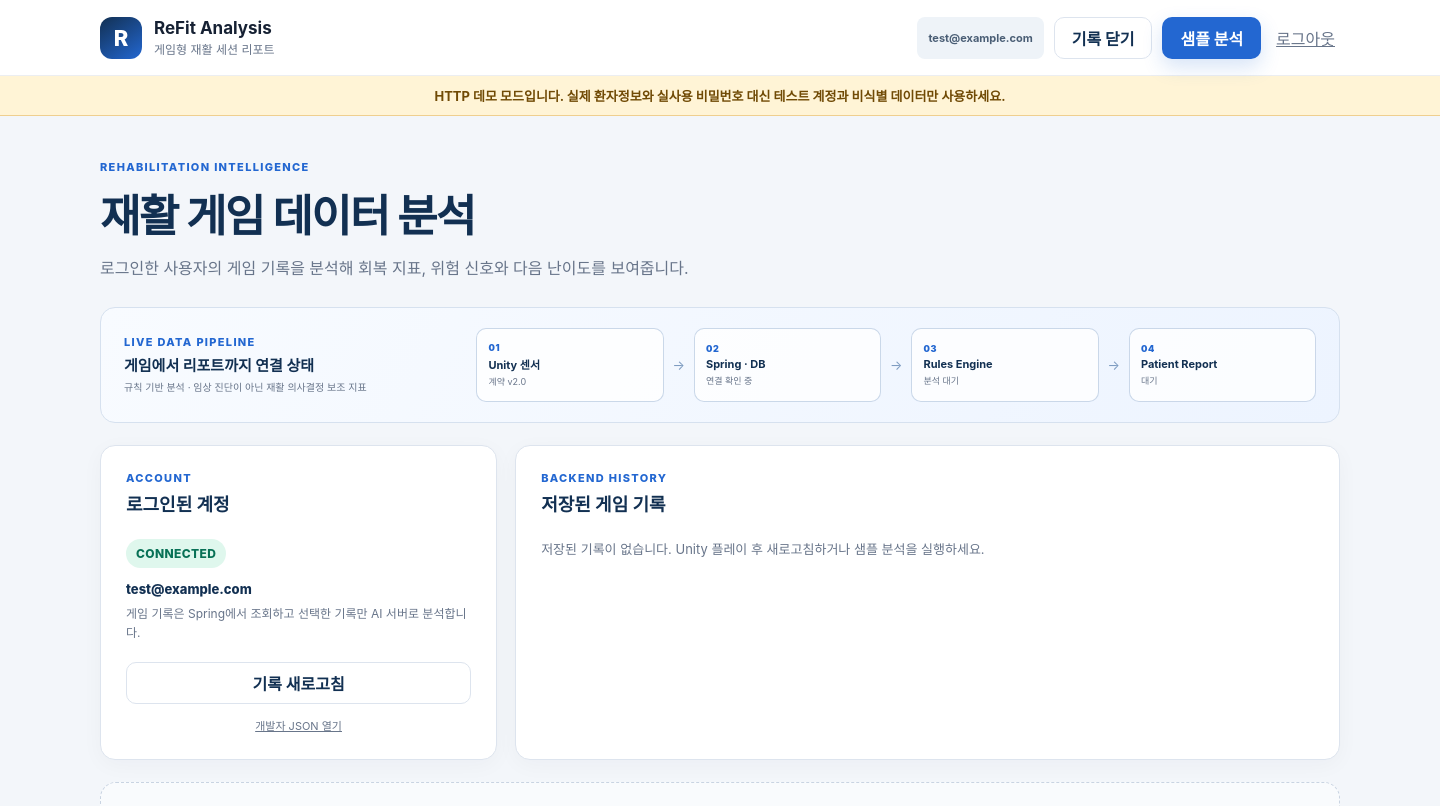
Test case: runs AI analysis only after an authenticated session exists
This screenshot has width=1440, height=806.
Click the button "샘플 분석" at coordinates (1212, 38), box 1162,16 -> 1261,58
(page scrolled)
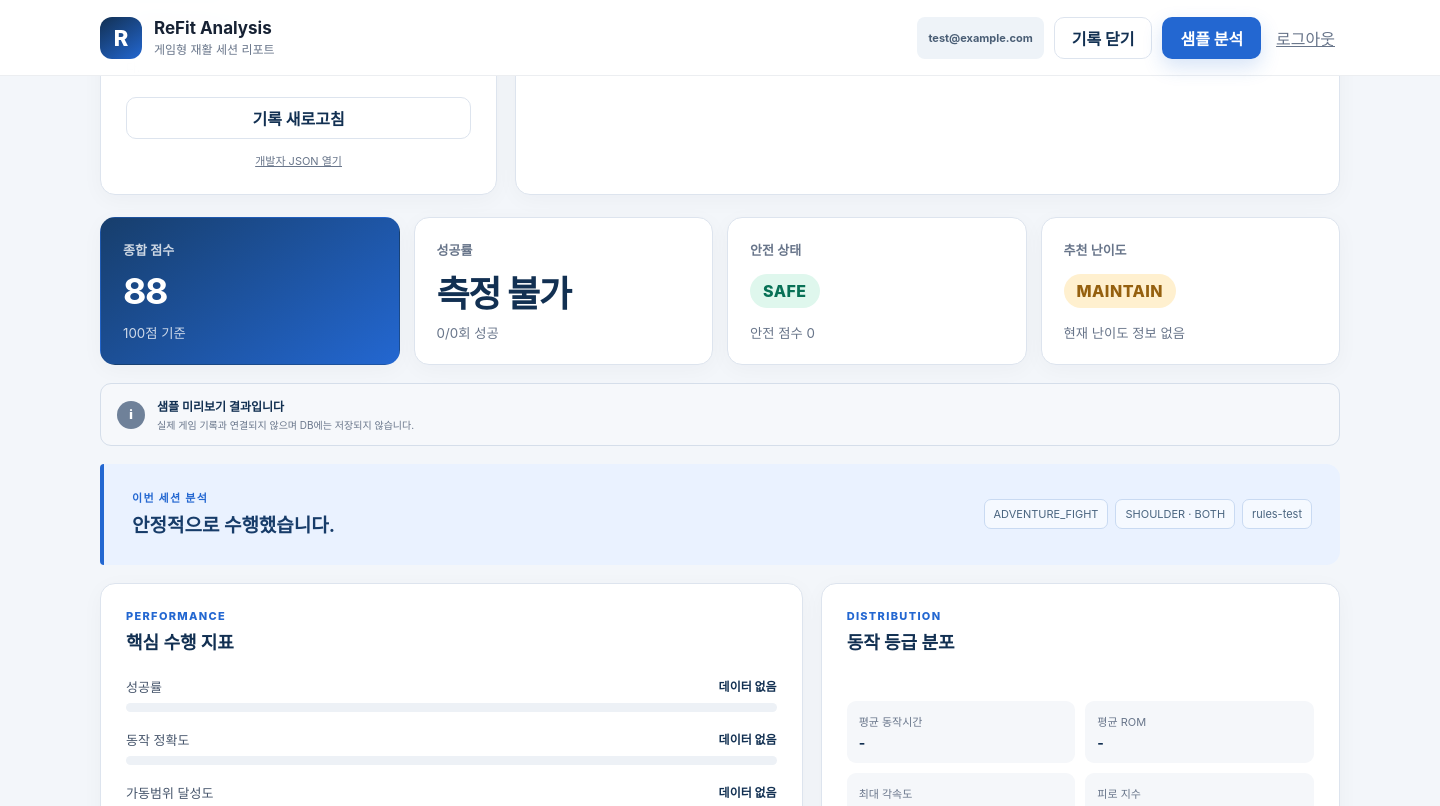
Expected: the heading "안정적으로 수행했습니다." is shown, 132,512 -> 335,540
Expected: the text "88" is shown, 123,269 -> 167,313
Expected: the text "샘플 미리보기 결과입니다" is shown, 157,399 -> 284,414
